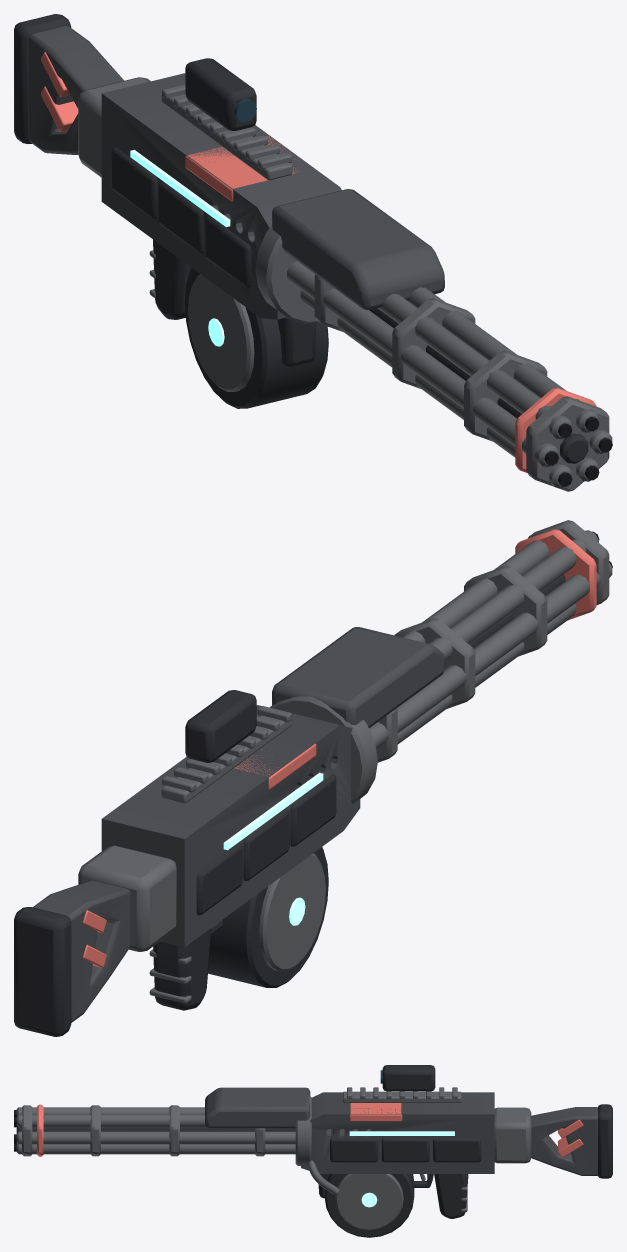
File: machineGun.glb
The picture shows the model from 3 angles, top to bottom: view 1: azimuth 30°, elevation 25°; view 2: azimuth 150°, elevation 25°; view 3: azimuth 270°, elevation 25°; orthographic projection. The views are drawn at different scales.
Visible parts, largest first — view 1: receiver.001, shroudTop, stock.001, barrel.004, drum, drumCap, barrel.003, sight, clamp.003, barrel.002, collar, stripe.001 (+16 smaller); view 2: receiver.001, shroudTop, stockPad.001, stock.001, rearBlock.001, drumCap, barrel.004, drum, sight, barrel.003, grip.002, collar (+13 smaller); view 3: receiver.001, shroudTop, stock.001, barrel.001, drumCap.001, barrel.006, barrel.002, rearBlock.001, drum, sight, grip.002, barrel.003 (+16 smaller).
Boxes of the visible parts, left/top/right/bottom form: receiver.001: left=101, top=73, right=341, bottom=319; shroudTop: left=272, top=189, right=444, bottom=309; stock.001: left=28, top=26, right=124, bottom=154; barrel.004: left=287, top=261, right=558, bottom=466; drum: left=184, top=267, right=328, bottom=408; drumCap: left=187, top=274, right=254, bottom=391; barrel.003: left=378, top=294, right=571, bottom=439; sight: left=185, top=58, right=256, bottom=130; clamp.003: left=526, top=396, right=609, bottom=491; barrel.002: left=408, top=287, right=598, bottom=432; collar: left=255, top=225, right=319, bottom=323; stripe.001: left=185, top=135, right=297, bottom=201; receiver.001: left=101, top=705, right=360, bottom=947; shroudTop: left=272, top=627, right=444, bottom=728; stockPad.001: left=14, top=907, right=71, bottom=1036; stock.001: left=33, top=880, right=130, bottom=1022; rearBlock.001: left=78, top=845, right=176, bottom=951; drumCap: left=259, top=853, right=325, bottom=971; barrel.004: left=369, top=563, right=612, bottom=748; drum: left=208, top=847, right=328, bottom=987; sight: left=185, top=690, right=256, bottom=762; barrel.003: left=429, top=530, right=598, bottom=660; grip.002: left=153, top=928, right=211, bottom=1010; collar: left=270, top=696, right=377, bottom=803; receiver.001: left=301, top=1092, right=494, bottom=1173; shroudTop: left=205, top=1087, right=310, bottom=1128; stock.001: left=531, top=1107, right=597, bottom=1175; barrel.001: left=16, top=1131, right=295, bottom=1144; drumCap.001: left=335, top=1174, right=403, bottom=1229; barrel.006: left=16, top=1143, right=295, bottom=1154; barrel.002: left=16, top=1114, right=205, bottom=1127; rearBlock.001: left=494, top=1107, right=531, bottom=1163; drum: left=324, top=1174, right=414, bottom=1237; sight: left=382, top=1065, right=435, bottom=1091; grip.002: left=434, top=1174, right=468, bottom=1218; barrel.003: left=16, top=1107, right=204, bottom=1115.
Size of the model in its own units: 0.5421 by 1.36 by 4.55.
